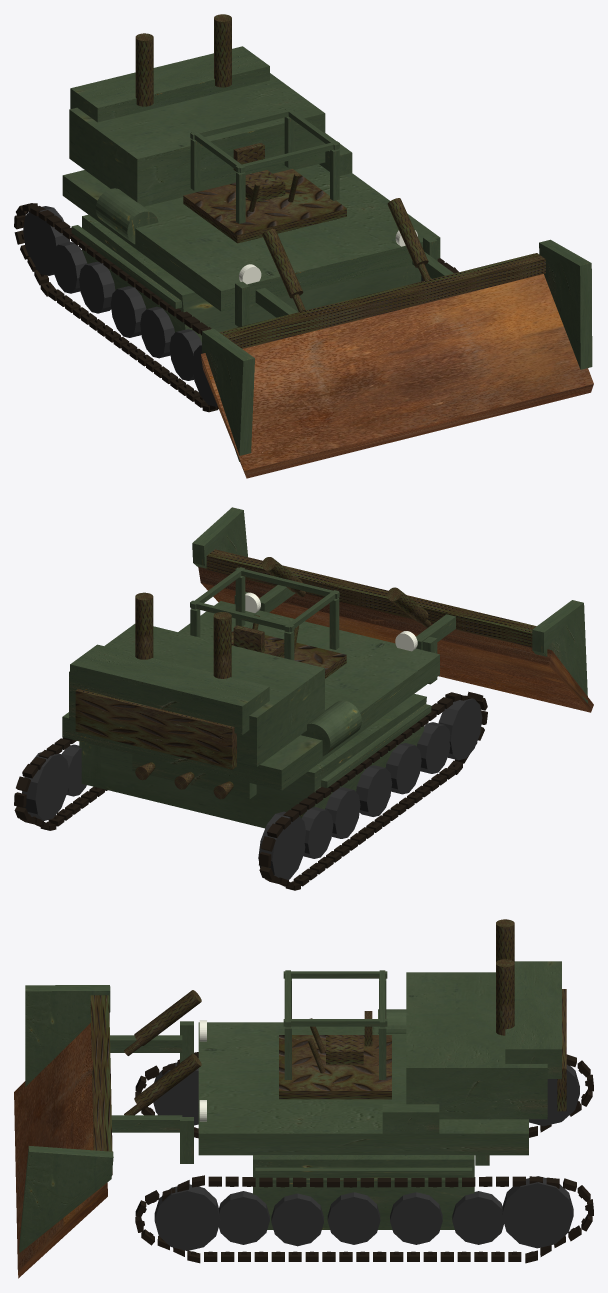
File: us_bulldozer.glb
The picture shows the model from 3 angles, top to bottom: view 1: azimuth 30°, elevation 25°; view 2: azimuth 150°, elevation 25°; view 3: azimuth 270°, elevation 25°; orthographic projection. The views are drawn at different scales.
Visible parts, largest first — view 1: Dozer_Blade, Dozer_Chassis, Dozer_Engine, Dozer_CuttingEdge, Track_Sponson_L, Dozer_Hood, Dozer_Platform, Track_L, Dozer_BladeCap_Left.001, Dozer_BladeCap_Left, Dozer_FuelTank, Drive_Sprocket_R.001 (+16 smaller); view 2: Dozer_Chassis, Dozer_Blade, Dozer_Engine, Track_Sponson_L, Dozer_Hood, Dozer_Grille, Track_L, Dozer_CuttingEdge, Dozer_BladeCap_Left, Drive_Sprocket_R, Track_R, Dozer_BladeCap_Left.001 (+24 smaller); view 3: Dozer_Chassis, Dozer_Engine, Dozer_Blade, Track_R, Track_Sponson_L, Dozer_BladeCap_Left.001, Dozer_Hood, Dozer_Platform, Dozer_BladeCap_Left, Drive_Sprocket_R, Idler_Wheel_R, Dozer_CuttingEdge (+23 smaller).
Boxes of the visible parts, <box> form: Dozer_Blade: <box>201,274,593,478</box>; Dozer_Chassis: <box>62,164,440,311</box>; Dozer_Engine: <box>69,73,325,206</box>; Dozer_CuttingEdge: <box>219,253,545,348</box>; Track_Sponson_L: <box>82,214,421,341</box>; Dozer_Hood: <box>70,46,269,122</box>; Dozer_Platform: <box>183,169,346,243</box>; Track_L: <box>14,203,218,412</box>; Dozer_BladeCap_Left.001: <box>539,239,592,369</box>; Dozer_BladeCap_Left: <box>202,328,254,461</box>; Dozer_FuelTank: <box>95,188,158,244</box>; Drive_Sprocket_R.001: <box>23,206,69,275</box>; Dozer_Chassis: <box>62,601,439,790</box>; Dozer_Blade: <box>198,567,593,712</box>; Dozer_Engine: <box>69,624,324,766</box>; Track_Sponson_L: <box>79,693,426,828</box>; Dozer_Hood: <box>70,644,269,734</box>; Dozer_Grille: <box>75,689,236,769</box>; Track_L: <box>259,691,487,890</box>; Dozer_CuttingEdge: <box>206,549,536,647</box>; Dozer_BladeCap_Left: <box>532,600,587,703</box>; Drive_Sprocket_R: <box>22,752,69,820</box>; Track_R: <box>14,737,107,830</box>; Dozer_BladeCap_Left.001: <box>192,507,247,568</box>; Dozer_Chassis: <box>198,1022,528,1155</box>; Dozer_Engine: <box>406,972,547,1119</box>; Dozer_Blade: <box>14,1023,107,1278</box>; Track_R: <box>135,1175,593,1263</box>; Track_Sponson_L: <box>253,1155,474,1229</box>; Dozer_BladeCap_Left.001: <box>19,1146,113,1252</box>; Dozer_Hood: <box>505,961,561,1078</box>; Dozer_Platform: <box>279,1035,391,1099</box>; Dozer_BladeCap_Left: <box>25,985,110,1086</box>; Drive_Sprocket_R: <box>502,1176,573,1248</box>; Idler_Wheel_R: <box>154,1184,220,1250</box>; Dozer_CuttingEdge: <box>90,995,112,1175</box>.
Bounding box in the file's own units: 4.54 × 2.99 × 6.15.
Materials: 10 (6 with a texture image).
